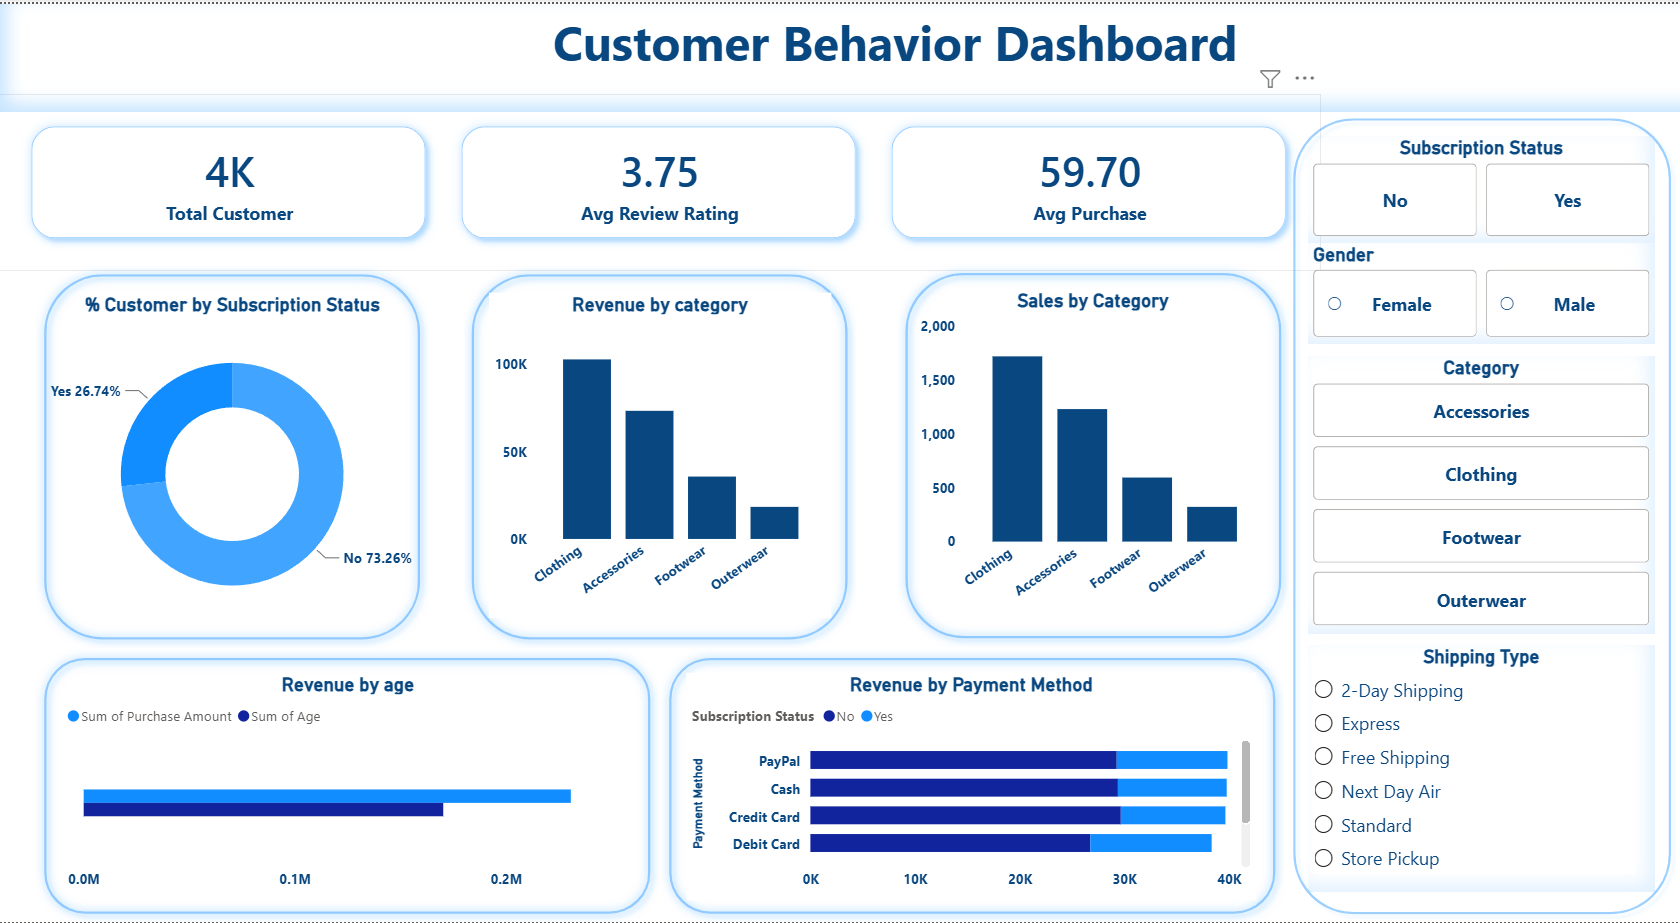

The page's visual inventory and layout, read from the dashboard file:
{"tool":"powerbi","page":{"name":"Customer behavior dashboard","canvas":[1500,820],"ordinal":0},"visuals":[{"type":"cardVisual","fields":{"Data":["customer_data.Total Customer","customer_data.Avg Review Rating","customer_data.Avg Purchase"]},"box":[0,80.4,1180.1,158.1],"z":0},{"type":"textbox","box":[0,0,1600.3,96.1],"z":1000},{"type":"shape","box":[32.7,233,351.6,342],"z":2000},{"type":"donutChart","title":"% Customer by Subscription Status","fields":{"Category":["customer_data.Subscription Status"],"Y":["CountNonNull(customer_data.Customer ID)"]},"box":[19.1,257.5,378.8,305.2],"z":3000},{"type":"shape","box":[414.2,233,351.6,342],"z":4000},{"type":"shape","box":[801.2,231.7,351.6,342],"z":5000},{"type":"shape","box":[1148.7,95.4,351.6,724.9],"z":6000},{"type":"clusteredColumnChart","title":"Revenue by category","fields":{"Y":["Sum(customer_data.Purchase Amount)"],"Category":["customer_data.Category"]},"box":[437.5,257.5,305.6,290],"z":7000},{"type":"clusteredColumnChart","title":"Sales by Category","fields":{"Y":["CountNonNull(customer_data.Customer ID)"],"Category":["customer_data.Category"]},"box":[817.6,254.8,317.5,295.7],"z":8000},{"type":"advancedSlicerVisual","fields":{"Values":["customer_data.Subscription Status"]},"box":[1168.3,118.3,310,95],"z":9000},{"type":"advancedSlicerVisual","fields":{"Values":["customer_data.Gender"]},"box":[1168.3,213.3,310,90],"z":10000},{"type":"advancedSlicerVisual","fields":{"Values":["customer_data.Category"]},"box":[1168.3,315,310,248.3],"z":11000},{"type":"listSlicer","fields":{"Values":["customer_data.Shipping Type"]},"box":[1168.6,572.9,310,220],"z":12000},{"type":"clusteredBarChart","title":"Revenue by age","fields":{"Y":["Sum(customer_data.Purchase Amount)","Sum(customer_data.Age)"]},"box":[55.7,597.1,511.4,202.9],"z":13000},{"type":"shape","box":[590,575.7,557.1,244.3],"z":14000},{"type":"shape","box":[32.9,575.7,557.1,244.3],"z":15000},{"type":"barChart","title":"Revenue by Payment Method","fields":{"Category":["customer_data.Payment Method","customer_data.Item Purchased"],"Y":["Sum(customer_data.Purchase Amount)"],"Series":["customer_data.Subscription Status"]},"box":[614.3,597.1,508.6,202.9],"z":16000}]}

Visuals, with their boxes in screenshot pixels (x1, y1, x2, y2), scaled from the page's 1500x820 canvas onto the 1680x923 screenshot:
cardVisual - customer_data.Total Customer x customer_data.Avg Review Rating: 0:90:1322:268
textbox: 0:0:1679:108
shape: 37:262:430:647
"% Customer by Subscription Status" donutChart: 21:290:446:633
shape: 464:262:858:647
shape: 897:261:1291:646
shape: 1287:107:1679:922
"Revenue by category" clusteredColumnChart: 490:290:832:616
"Sales by Category" clusteredColumnChart: 916:287:1271:620
advancedSlicerVisual - customer_data.Subscription Status: 1308:133:1656:240
advancedSlicerVisual - customer_data.Gender: 1308:240:1656:341
advancedSlicerVisual - customer_data.Category: 1308:355:1656:634
listSlicer - customer_data.Shipping Type: 1309:645:1656:892
"Revenue by age" clusteredBarChart: 62:672:635:900
shape: 661:648:1285:922
shape: 37:648:661:922
"Revenue by Payment Method" barChart: 688:672:1258:900
